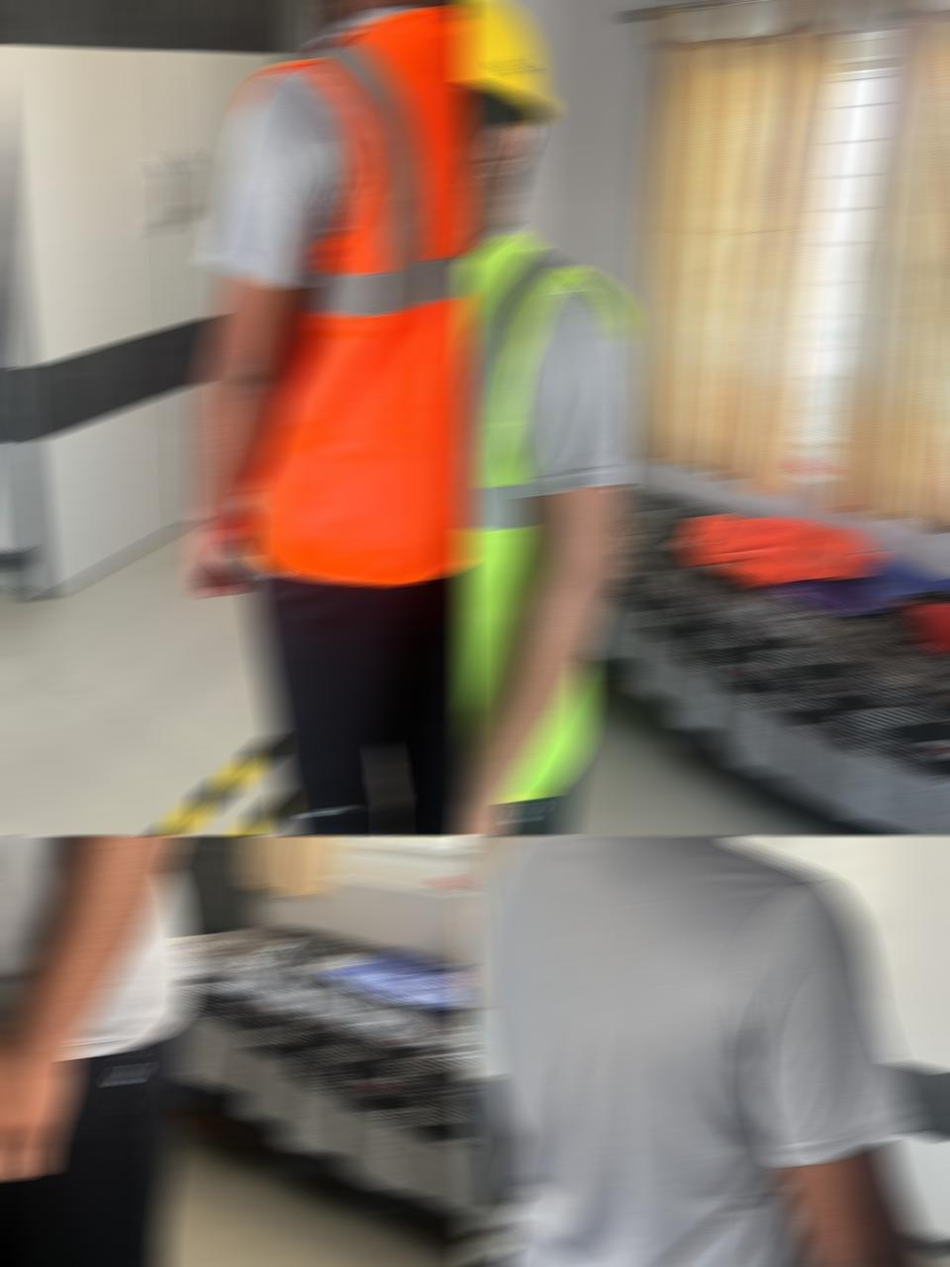BorderLine: (0, 731, 290, 834)
Helmet: (460, 0, 553, 129)
No_Vest: (471, 836, 923, 1267), (0, 835, 231, 1057)
Person: (186, 0, 471, 835), (470, 835, 950, 1266), (460, 0, 634, 835), (0, 835, 231, 1266)
Vest: (234, 0, 471, 587), (460, 225, 635, 799)
